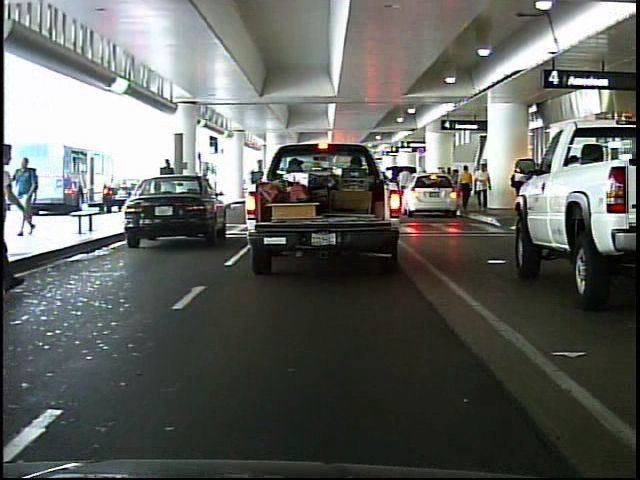person: (12, 154, 44, 238), (155, 154, 181, 219), (453, 160, 473, 220), (475, 156, 495, 214)
